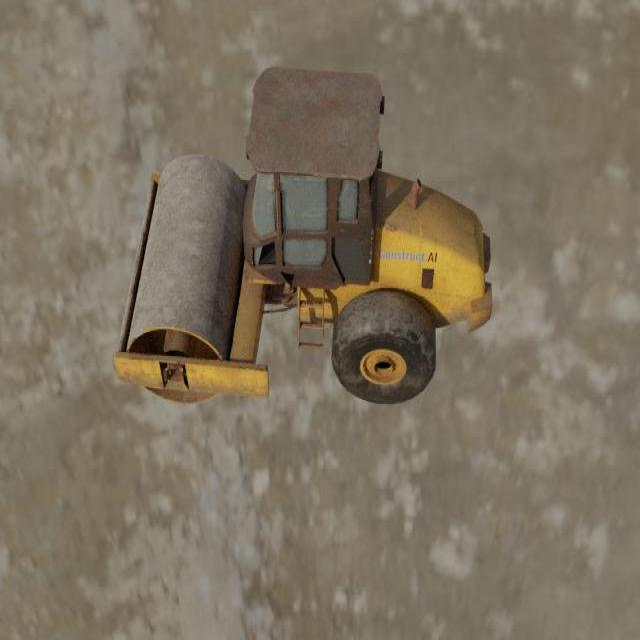Roller: (113, 65, 492, 404)
